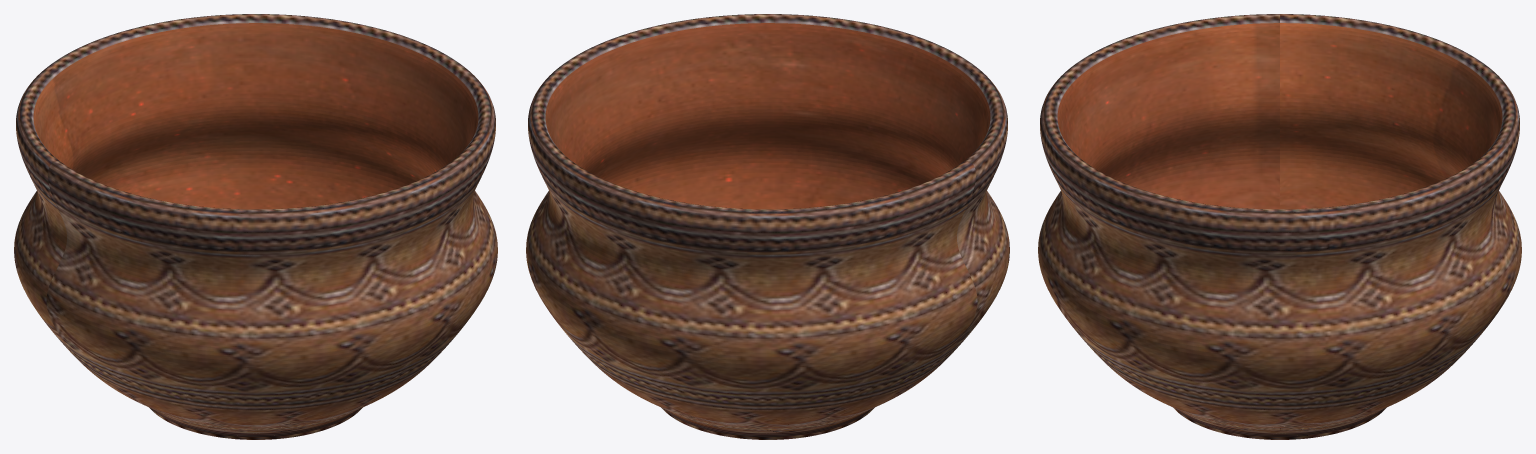
The picture shows the model from 3 angles, left to right: view 1: azimuth 30°, elevation 25°; view 2: azimuth 150°, elevation 25°; view 3: azimuth 270°, elevation 25°; orthographic projection.
Parts seen in each view (by area): view 1: Circle; view 2: Circle; view 3: Circle.
Part boxes in pixels (left/top/right/bottom): Circle: left=14, top=14, right=497, bottom=439; Circle: left=526, top=14, right=1009, bottom=439; Circle: left=1038, top=14, right=1521, bottom=439.
Size of the model in its own units: 4.82 by 3.09 by 4.82.
Materials: 1 (1 with a texture image).
